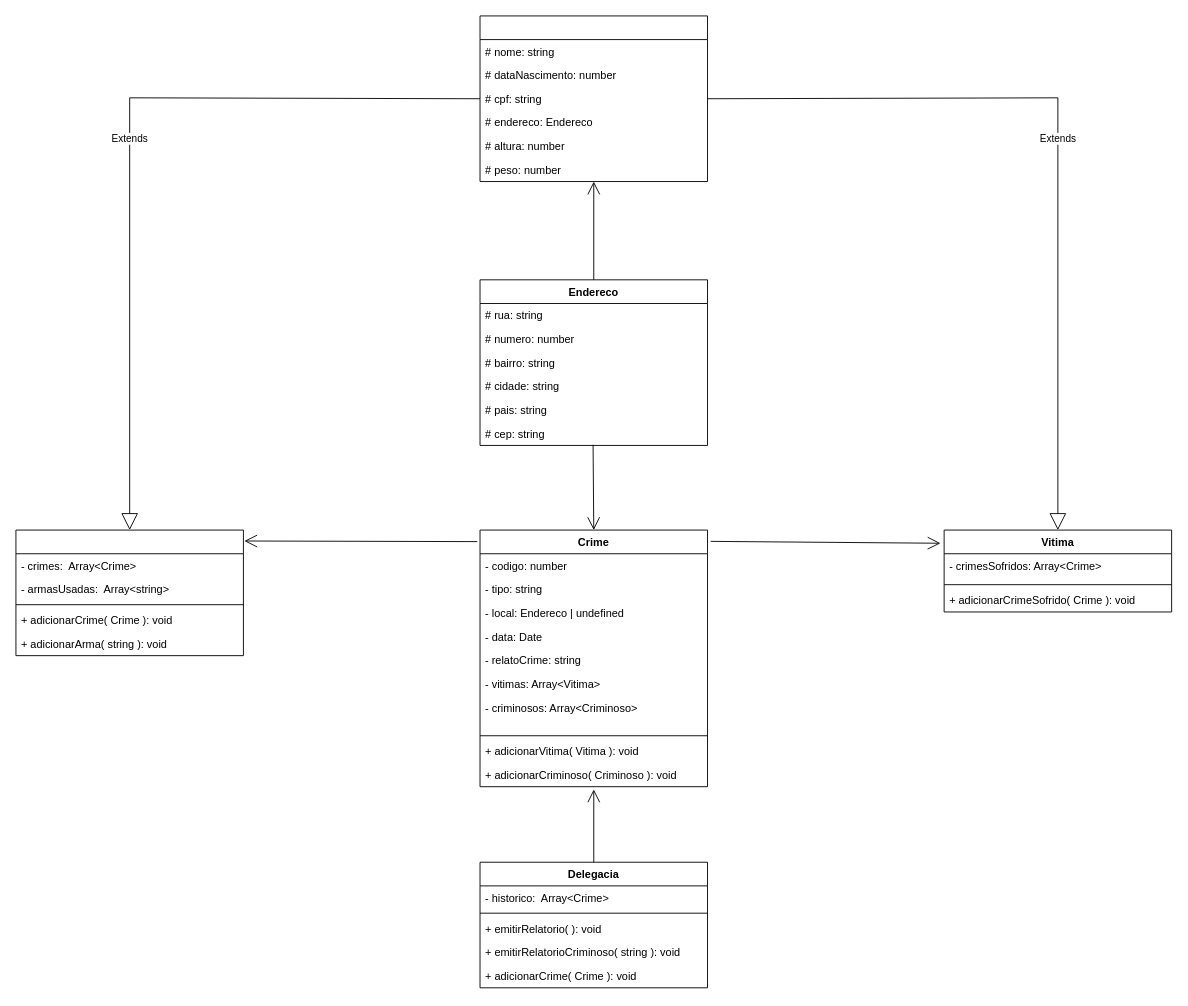
Image size: 1188x1006. Some labels were removed from this diagram. Each missing label, with the box of its shape:
abstract Pessoa: (479, 15, 708, 182)
Criminoso: (15, 529, 243, 656)
